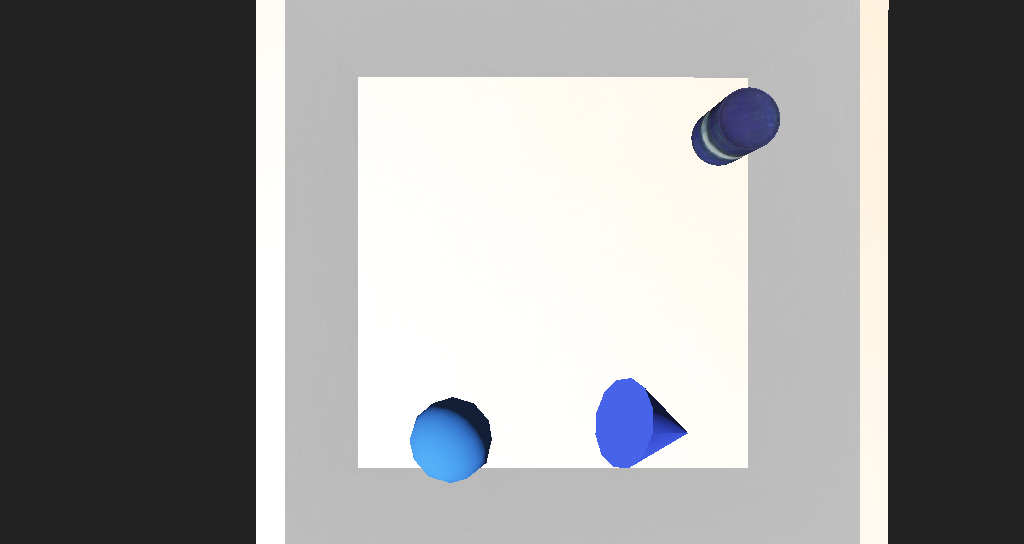cone: (616, 172, 677, 210)
cylinder: (536, 317, 637, 398)
sphere: (391, 334, 458, 382)
